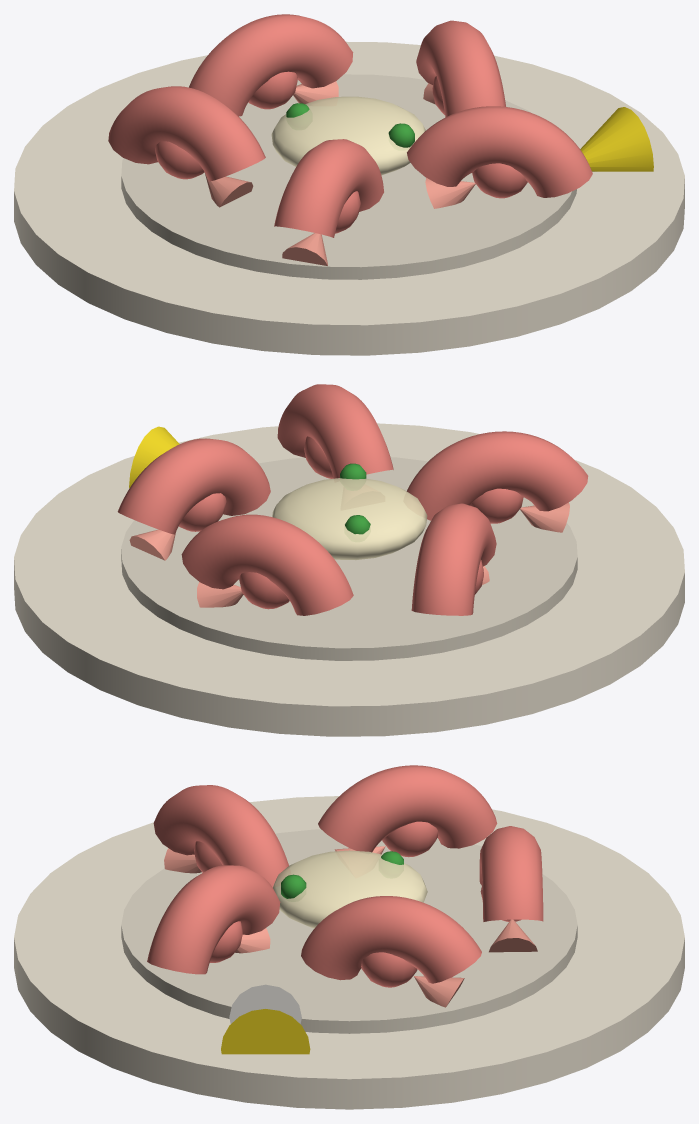
The model's file is camarones.glb.
The picture shows the model from 3 angles, top to bottom: view 1: azimuth 30°, elevation 25°; view 2: azimuth 150°, elevation 25°; view 3: azimuth 270°, elevation 25°; orthographic projection.
Bounding box in the file's own units: 0.24 × 0.055 × 0.24.
